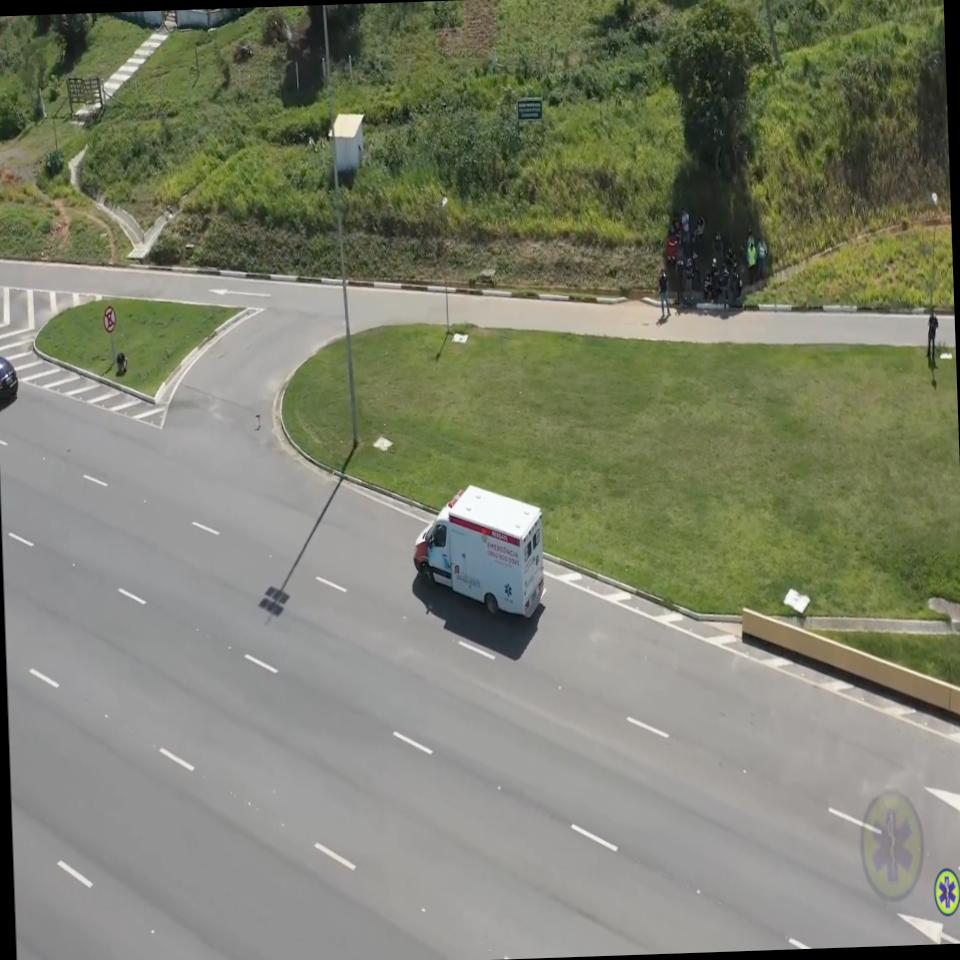bombeiro: (411, 482, 549, 624)
